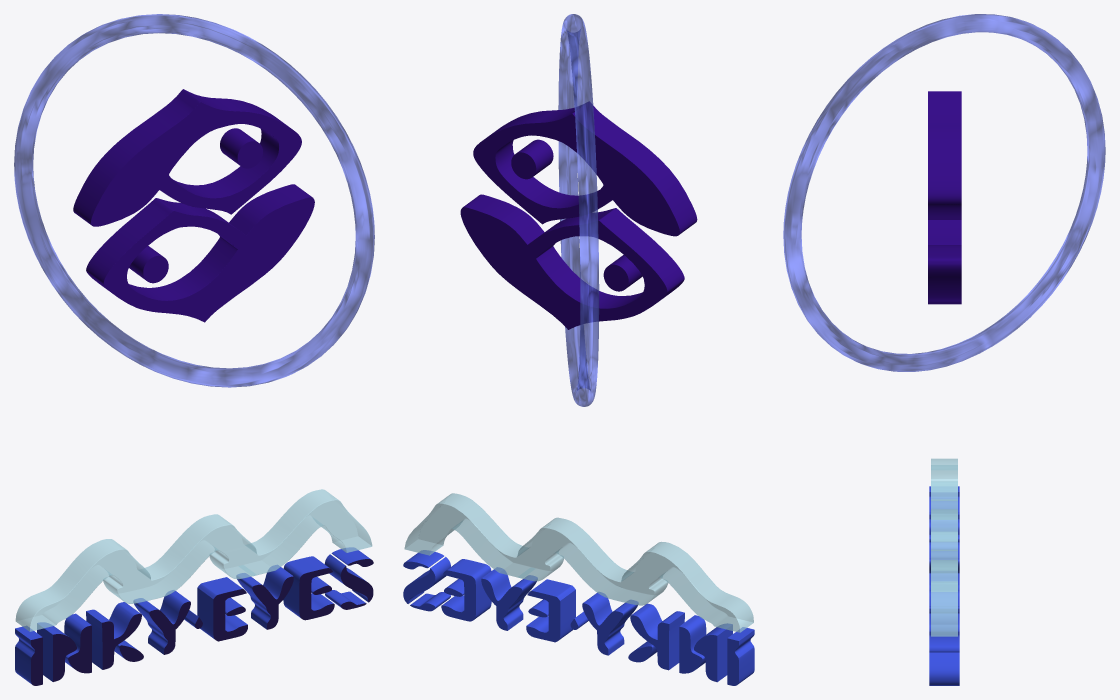
Rendered from rogo.glb.
3 views of the same model, side by side, from view 1: azimuth 30°, elevation 25°; view 2: azimuth 150°, elevation 25°; view 3: azimuth 270°, elevation 25° (orthographic). The views are drawn at different scales.
Parts seen in each view (by area): view 1: O, bi2_v18, bi2_v19, fish2, fish1, fish_dot, fish_dot_(1); view 2: bi2_v18, bi2_v19, fish2, fish1, O, fish_dot, fish_dot_(1); view 3: O, bi2_v19, bi2_v18, fish1, fish2.
Boxes of the visible parts, x1,y1,x2,y2 form: O: (14, 14, 374, 387); bi2_v18: (15, 547, 373, 685); bi2_v19: (15, 489, 372, 631); fish2: (86, 184, 314, 322); fish1: (73, 89, 301, 226); fish_dot: (220, 128, 262, 168); fish_dot_(1): (129, 245, 168, 283); bi2_v18: (403, 550, 754, 685); bi2_v19: (404, 493, 753, 632); fish2: (460, 194, 684, 329); fish1: (473, 101, 697, 236); O: (558, 14, 599, 406); fish_dot: (511, 139, 553, 179); fish_dot_(1): (603, 255, 642, 291); O: (783, 14, 1105, 371); bi2_v19: (931, 458, 957, 636); bi2_v18: (929, 486, 959, 685); fish1: (928, 91, 961, 219); fish2: (928, 220, 961, 304).
Size of the model in its own units: 14.05 by 24.31 by 12.01.
